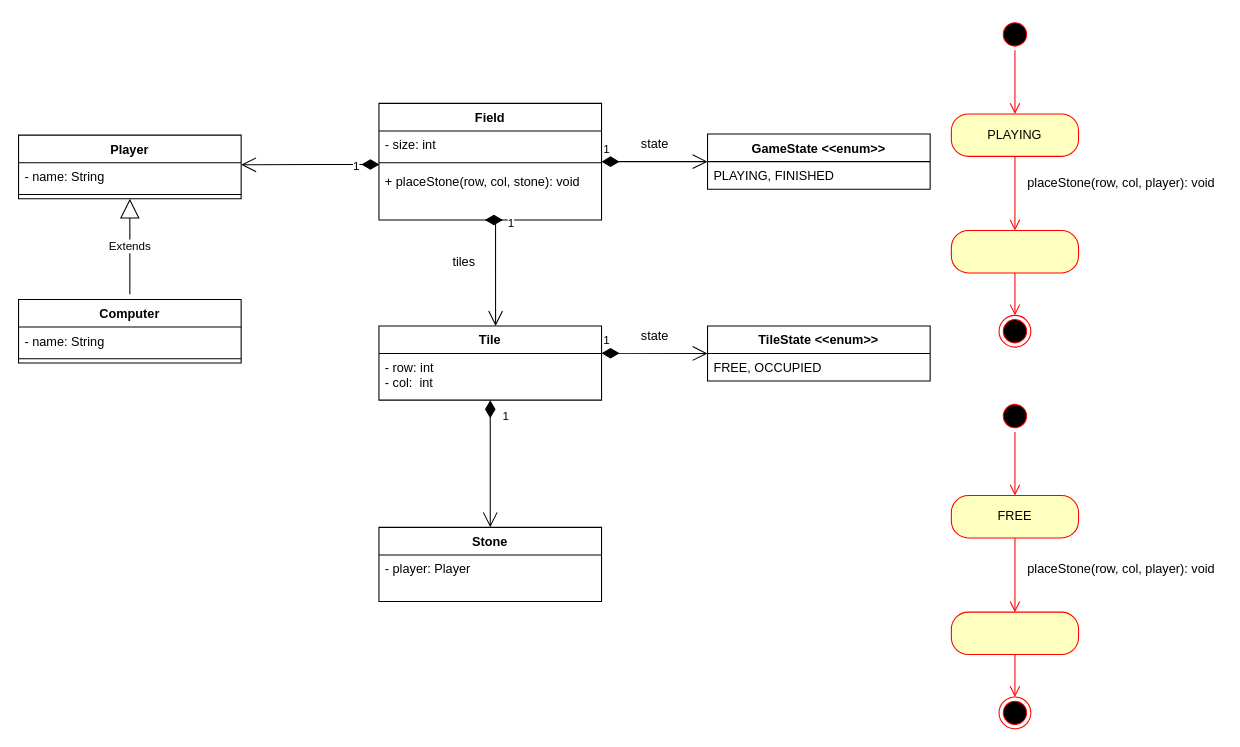
Image size: 1240x747. Some labels were removed from this diagram. Here are the shapes that lost their labels. From the top down, the centre of each, then its label:
At (1014,251): "FINISHED".
At (1014,633): "OCCUPIED".
